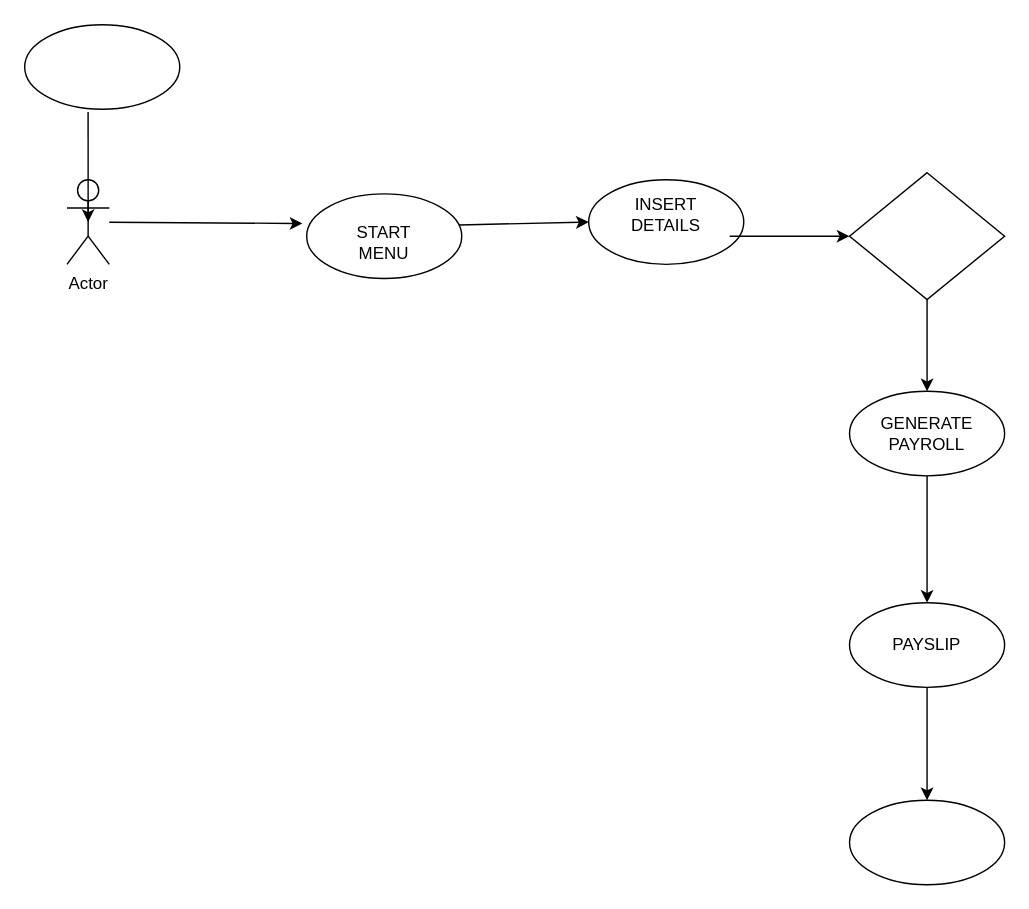
Image size: 1029x909. Some labels were removed from this diagram. The shapes that lost their labels are listed below. From the top down, each one's centre as x and y in pixels, then its label:
At pixel 101 66: "Payroll Management system".
At pixel 926 235: "CALCULATE SALARIES".
At pixel 926 842: "EXIT".
